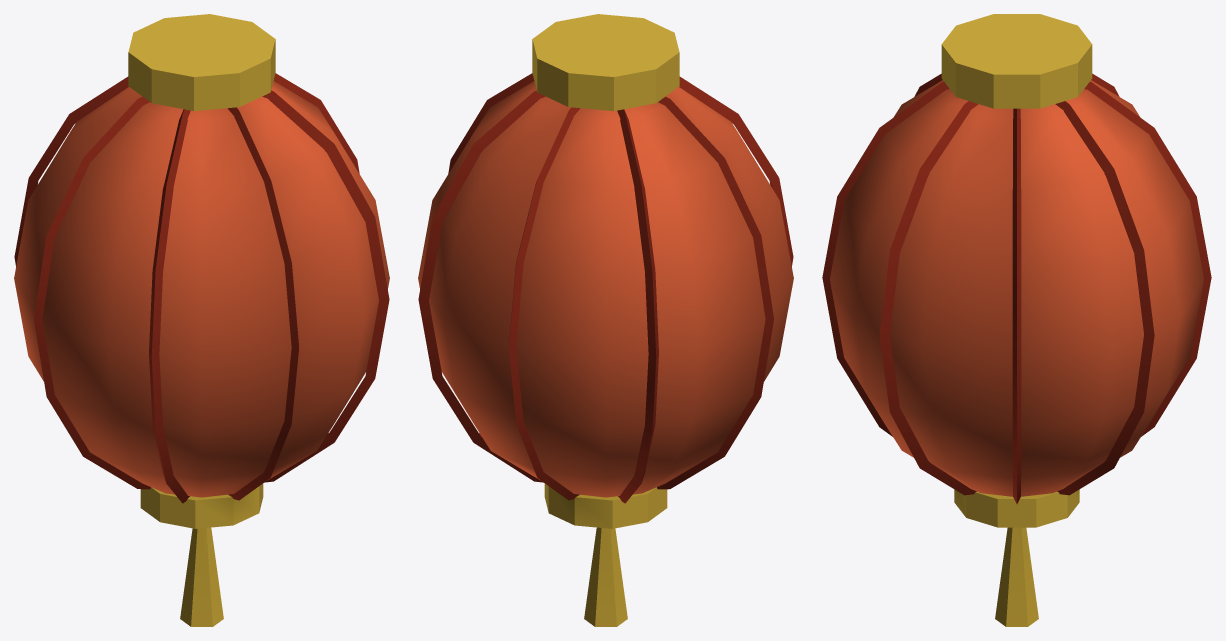
File: pr-lantern.glb
3 views of the same model, side by side, from view 1: azimuth 30°, elevation 25°; view 2: azimuth 150°, elevation 25°; view 3: azimuth 270°, elevation 25° (orthographic).
Bounding box in the file's own units: 0.62 × 1.01 × 0.62.
